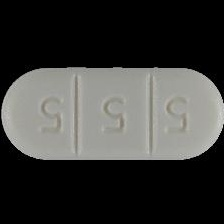58118-1820: (0, 0, 224, 224)
